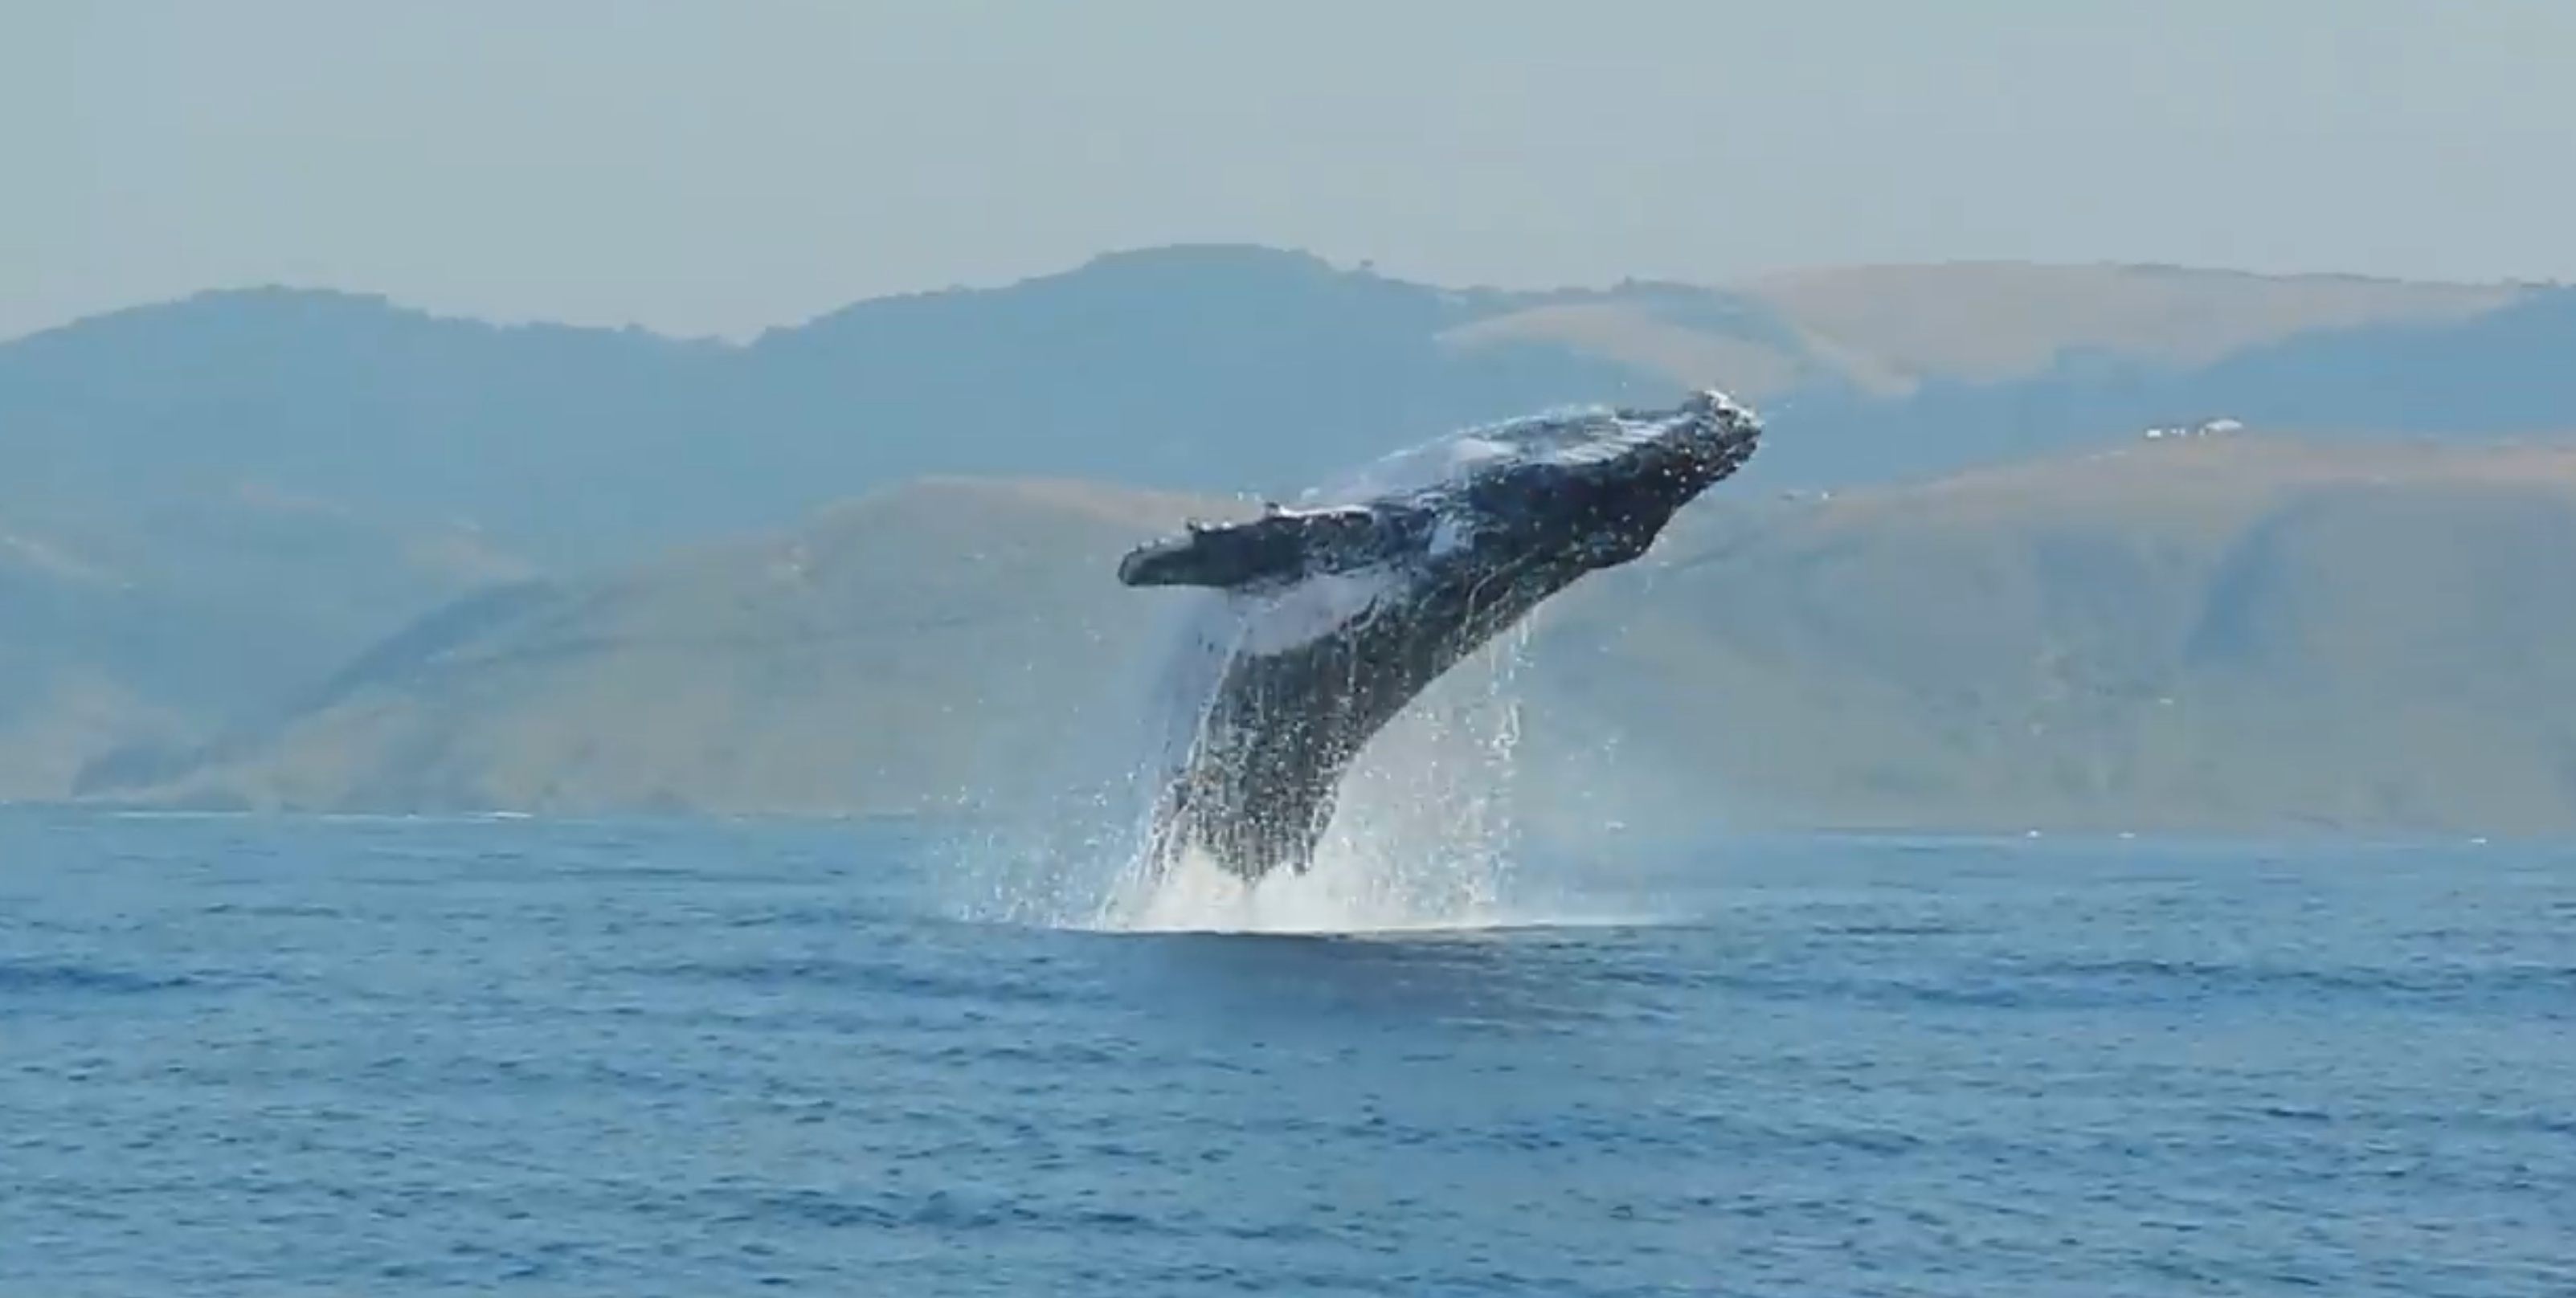humpback: (1174, 382, 1766, 869)
